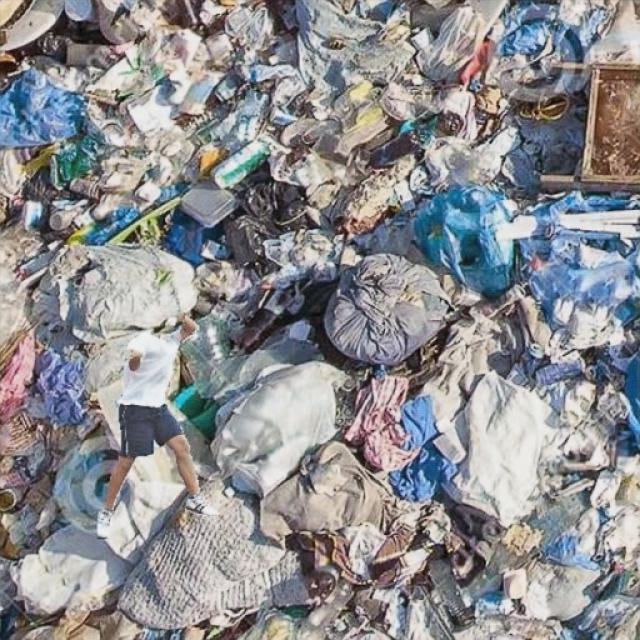Person in Rubble: (98, 316, 218, 538)
